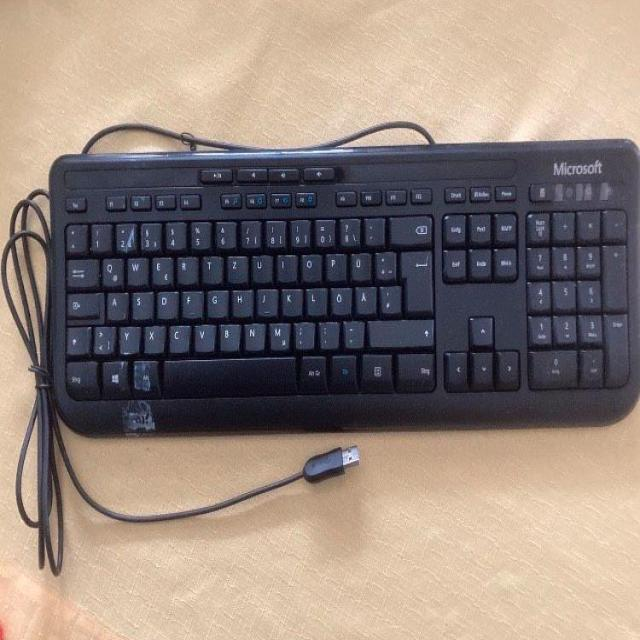0: (311, 214, 333, 245)
1: (88, 219, 109, 249)
2: (113, 219, 133, 248)
3: (136, 218, 158, 248)
4: (162, 216, 184, 246)
5: (187, 216, 208, 246)
6: (212, 218, 234, 246)
7: (238, 216, 258, 246)
8: (262, 217, 283, 245)
9: (288, 216, 307, 244)
a: (104, 287, 125, 318)
accent: (361, 213, 381, 242)
ae: (352, 281, 374, 312)
alt-left: (129, 355, 157, 391)
altgr-right: (297, 352, 324, 391)
b: (216, 319, 238, 347)
c: (166, 320, 188, 349)
caret: (62, 220, 84, 249)
comma: (291, 316, 311, 346)
d: (154, 287, 175, 317)
del: (386, 211, 431, 243)
e: (148, 252, 170, 282)
enter: (398, 246, 431, 310)
f: (179, 286, 200, 315)
g: (204, 285, 225, 314)
h: (229, 285, 251, 314)
hash: (377, 281, 399, 312)
i: (274, 249, 295, 279)
j: (254, 284, 275, 314)
k: (279, 283, 300, 313)
keyboard: (45, 140, 637, 424)
l: (303, 283, 324, 313)
less: (91, 321, 113, 352)
m: (266, 318, 287, 347)
minus: (340, 317, 361, 345)
n: (241, 318, 262, 347)
o: (298, 249, 319, 279)
oe: (328, 282, 349, 313)
p: (322, 248, 344, 278)
plus: (372, 246, 393, 276)
point: (316, 316, 336, 346)
q: (98, 253, 120, 283)
r: (174, 252, 195, 281)
s: (129, 287, 150, 318)
shift-left: (64, 322, 88, 353)
shift-lock: (64, 289, 101, 316)
shift-right: (366, 315, 431, 345)
space: (160, 353, 294, 395)
ss: (336, 214, 358, 244)
strg-left: (63, 357, 97, 397)
strg-right: (395, 349, 435, 390)
t: (199, 251, 220, 281)
tab: (64, 254, 96, 285)
u: (249, 251, 270, 280)
ue: (347, 247, 368, 279)
v: (191, 319, 213, 348)
w: (124, 252, 145, 282)
x: (141, 322, 162, 350)
y: (116, 321, 137, 351)
z: (224, 251, 246, 280)
